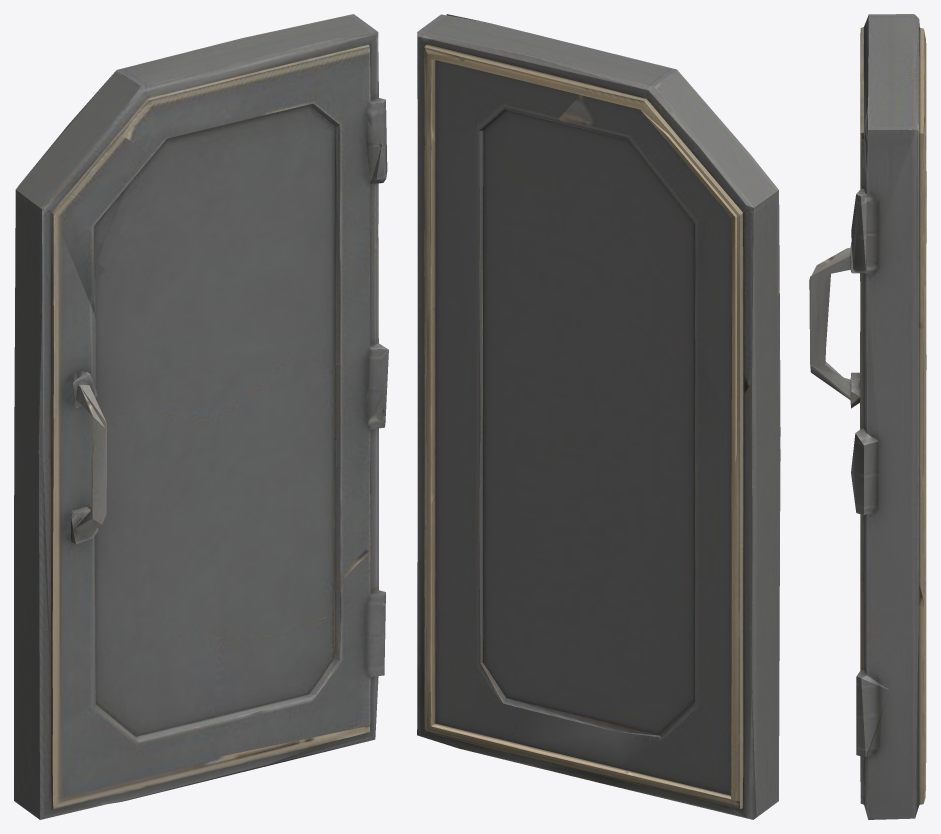
The model's file is imperial_power_plant__entrance_door_leaf_lod1.glb.
The picture shows the model from 3 angles, left to right: view 1: azimuth 30°, elevation 25°; view 2: azimuth 150°, elevation 25°; view 3: azimuth 270°, elevation 25°; orthographic projection. The views are drawn at different scales.
Parts seen in each view (by area): view 1: mesh_node; view 2: mesh_node; view 3: mesh_node.
Boxes of the visible parts, x1,y1,x2,y2 form: mesh_node: [14, 14, 388, 819]; mesh_node: [417, 14, 780, 819]; mesh_node: [809, 14, 926, 819].
Size of the model in its own units: 1.6 by 3.11 by 0.4751.
1 material, 1 textured.
